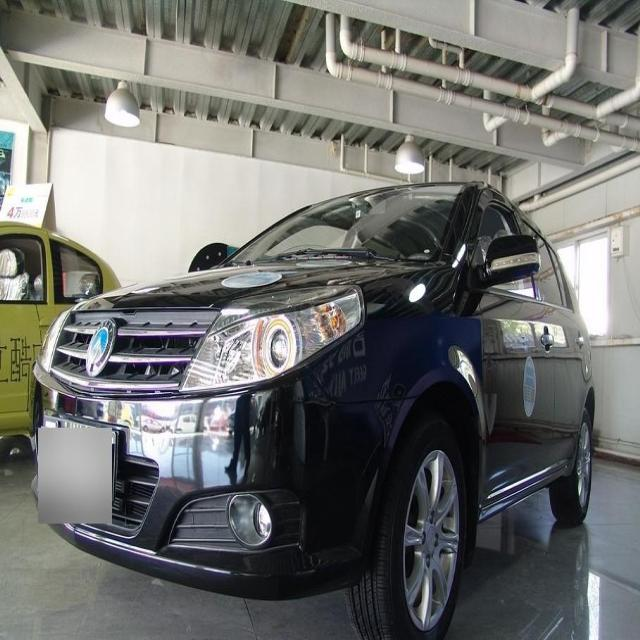front_bumper: (30, 364, 381, 602)
front_glass: (222, 178, 473, 270)
front_left_side_light: (180, 285, 366, 398)
front_right_side_door: (473, 185, 556, 514)
front_right_side_light: (37, 307, 69, 372)
front_right_side_mirror: (476, 233, 542, 289)
wheel: (356, 419, 468, 633), (552, 409, 594, 516)
